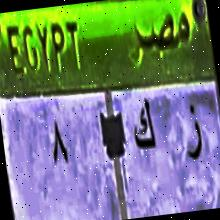8: (43, 112, 75, 179)
kaaf: (127, 92, 160, 162)
zay: (175, 98, 208, 168)
